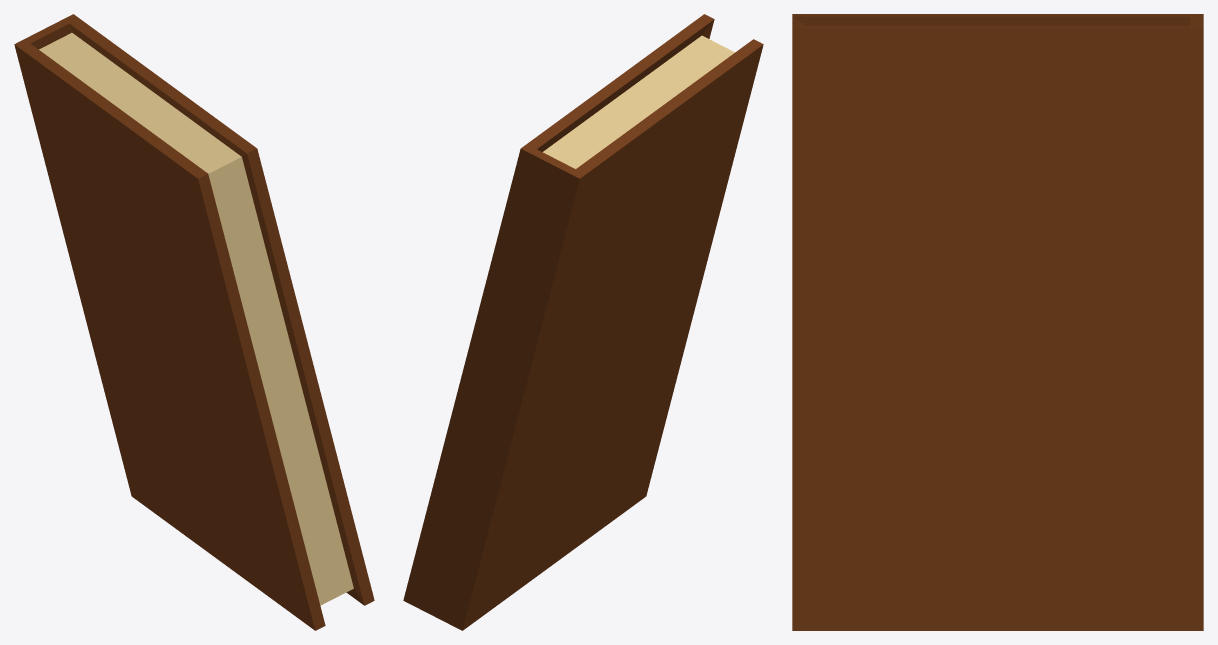
File: Book1_020.fbx
The picture shows the model from 3 angles, left to right: view 1: azimuth 30°, elevation 25°; view 2: azimuth 150°, elevation 25°; view 3: azimuth 270°, elevation 25°; orthographic projection. The views are drawn at different scales.
Parts seen in each view (by area): view 1: Book1.020; view 2: Book1.020; view 3: Book1.020.
Boxes of the visible parts, bbox=[...] form: Book1.020: bbox=[14, 14, 374, 630]; Book1.020: bbox=[403, 14, 763, 630]; Book1.020: bbox=[792, 14, 1203, 630].
Bounding box in the file's own units: 19.07 × 51.23 × 34.37.
